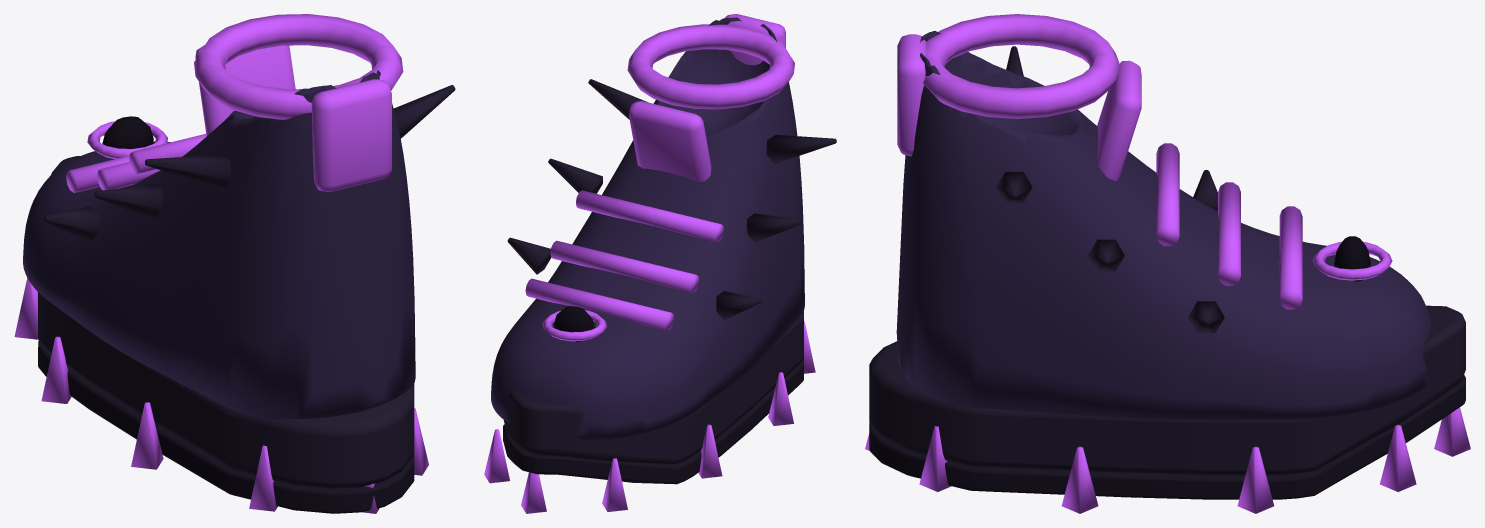
File: shoe_voidstompers.fbx
3 views of the same model, side by side, from view 1: azimuth 30°, elevation 25°; view 2: azimuth 150°, elevation 25°; view 3: azimuth 270°, elevation 25° (orthographic). The views are drawn at different scales.
Parts seen in each view (by area): view 1: shoe_voidstompers; view 2: shoe_voidstompers; view 3: shoe_voidstompers.
Boxes of the visible parts, box(x1,y1,x2,y2) form: shoe_voidstompers: box(14, 14, 455, 513); shoe_voidstompers: box(484, 14, 836, 513); shoe_voidstompers: box(865, 14, 1470, 513).
Bounding box in the file's own units: 2.33 × 2.9 × 3.94.
Materials: 1 (1 with a texture image).
